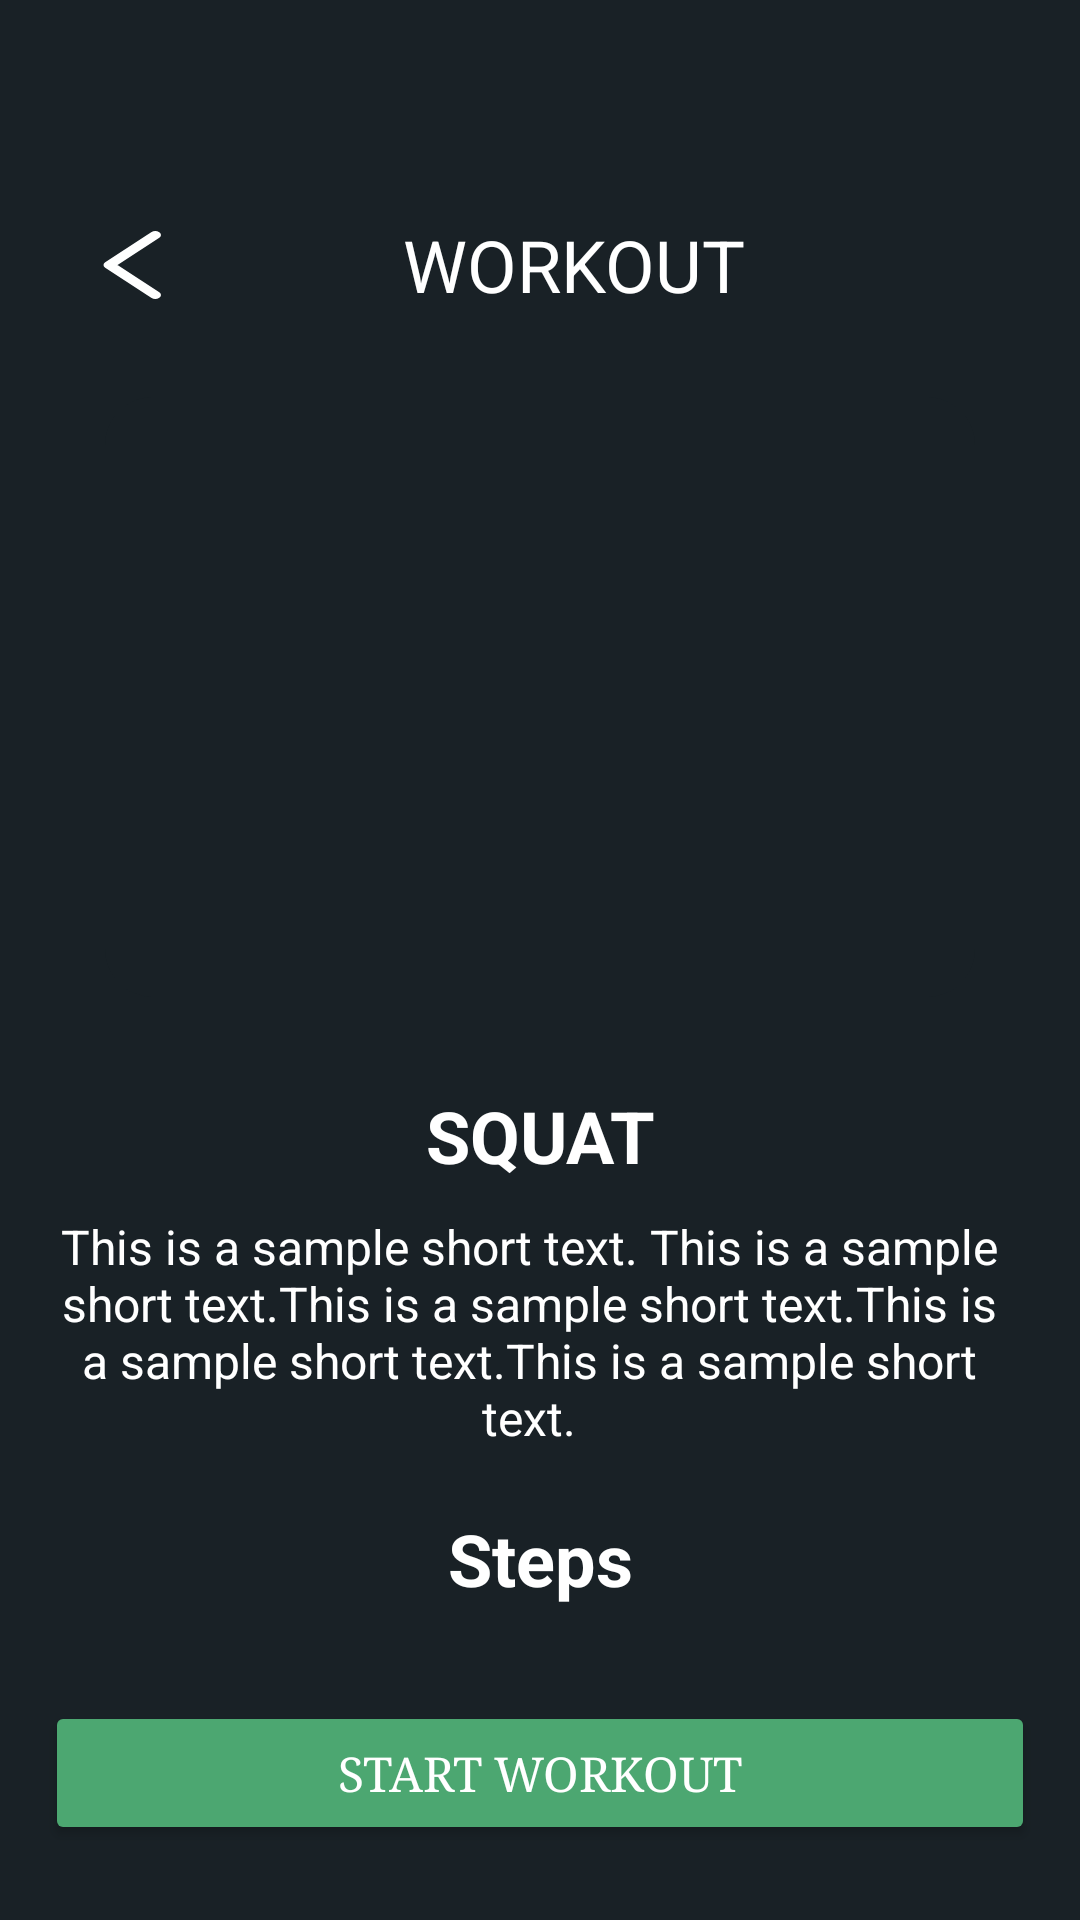

Point at icon controls on the screen. Image size 1080w x 1920h, points as [x,y].
Back: [132,265]
